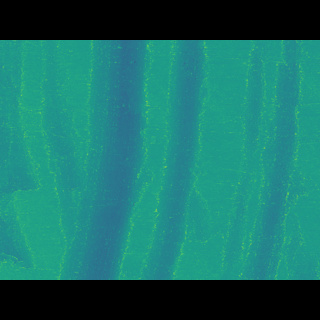Loch: (50, 68, 156, 251), (221, 69, 319, 249), (133, 69, 211, 250), (0, 69, 47, 242)
